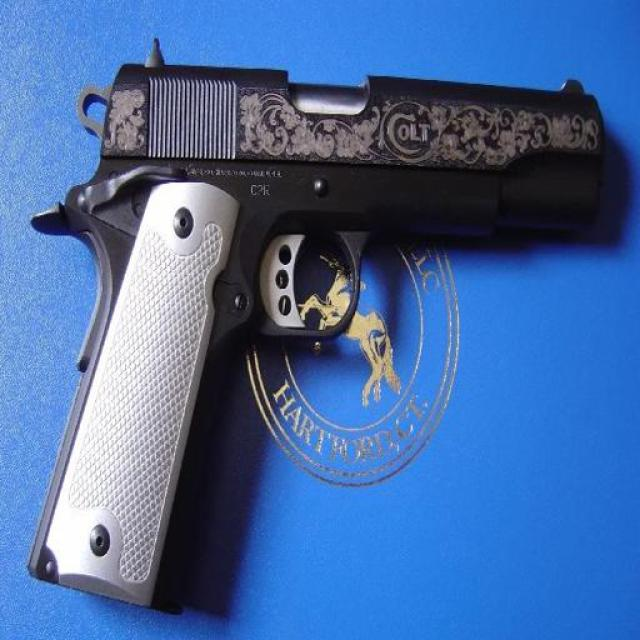pistol: (20, 30, 609, 604)
